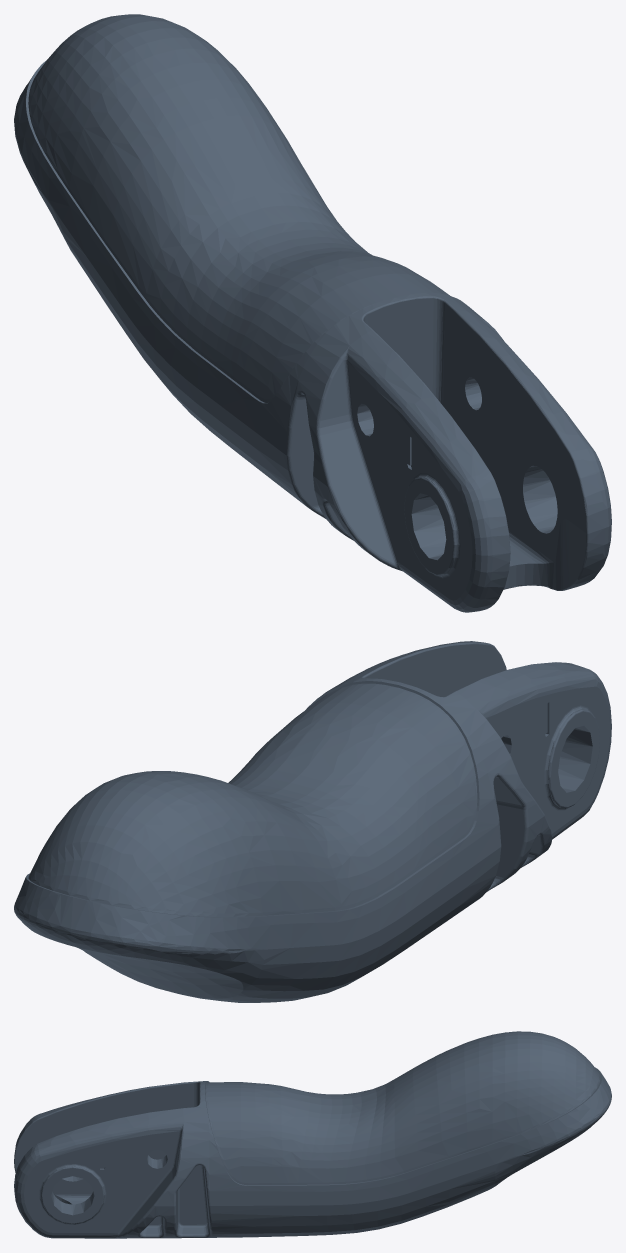
File: R_index_dist.dae
3 renders of one model, top to bottom at view 1: azimuth 30°, elevation 25°; view 2: azimuth 150°, elevation 25°; view 3: azimuth 270°, elevation 25°, orthographic. The views are drawn at different scales.
Visible parts, largest first — view 1: R_index_dist; view 2: R_index_dist; view 3: R_index_dist.
Boxes of the visible parts, <box> form: R_index_dist: <box>14,14,611,612</box>; R_index_dist: <box>14,641,611,1002</box>; R_index_dist: <box>14,1031,611,1238</box>.
Size of the model in its own units: 0.0148 by 0.0566 by 0.0197.
